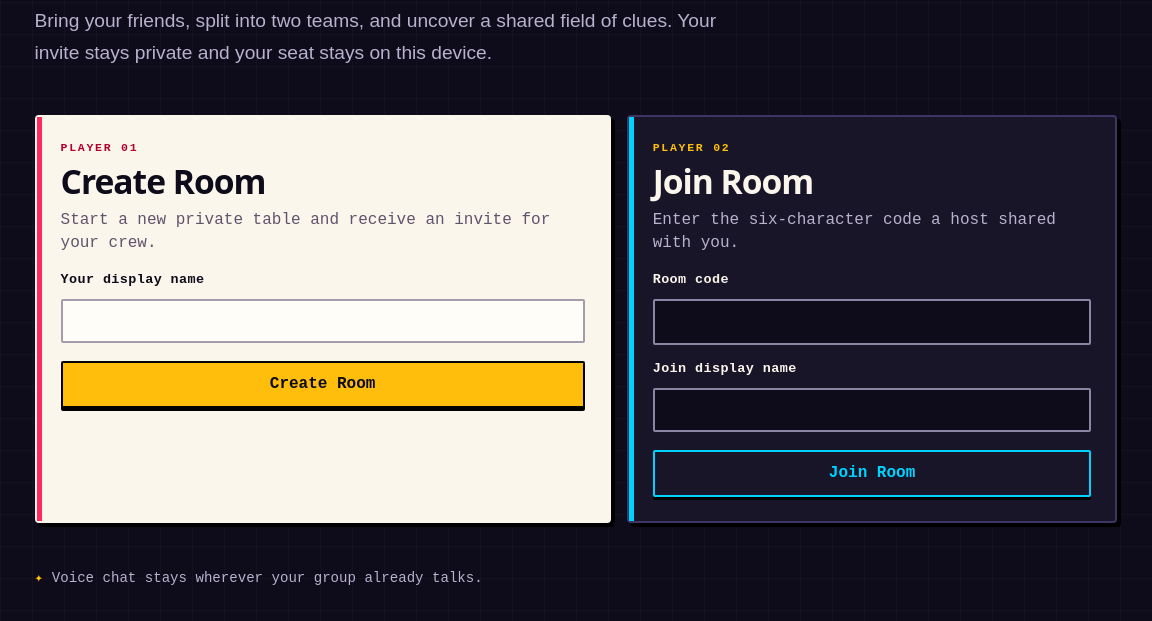
Test: HomePage › keeps an API error visible and focuses the public summary
This screenshot has width=1152, height=621.
(page scrolled)
In the field labelled "Room code": (872, 322) [653,299,1092,345], type "ABC123"
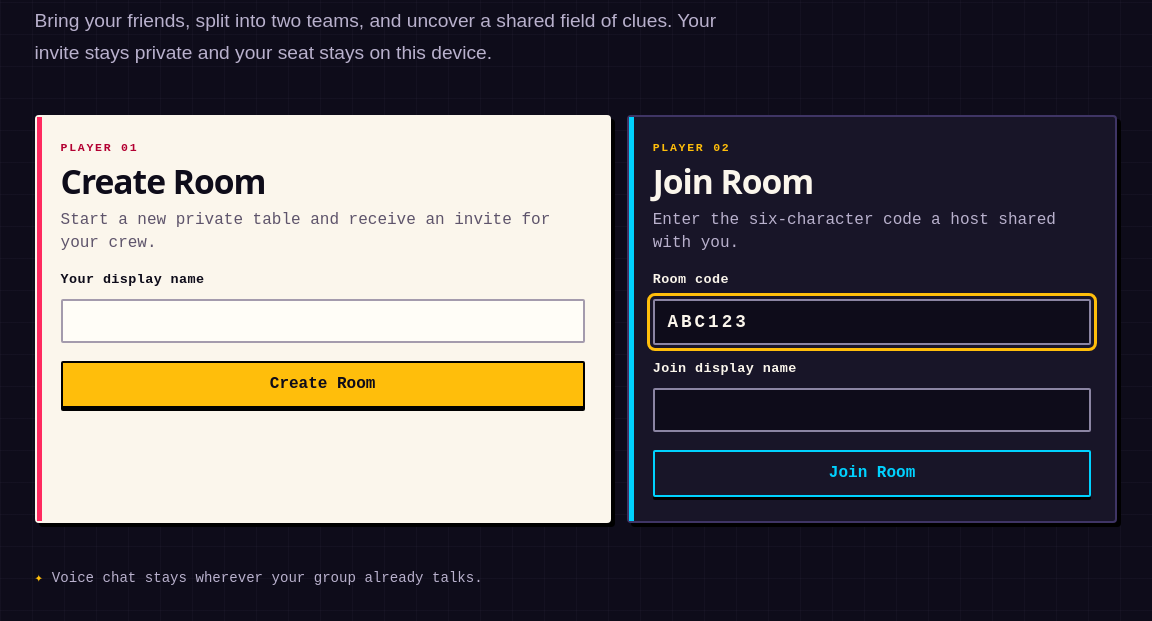
In the field labelled "Join display name": (872, 410) [653,388,1092,432], type "Guest"
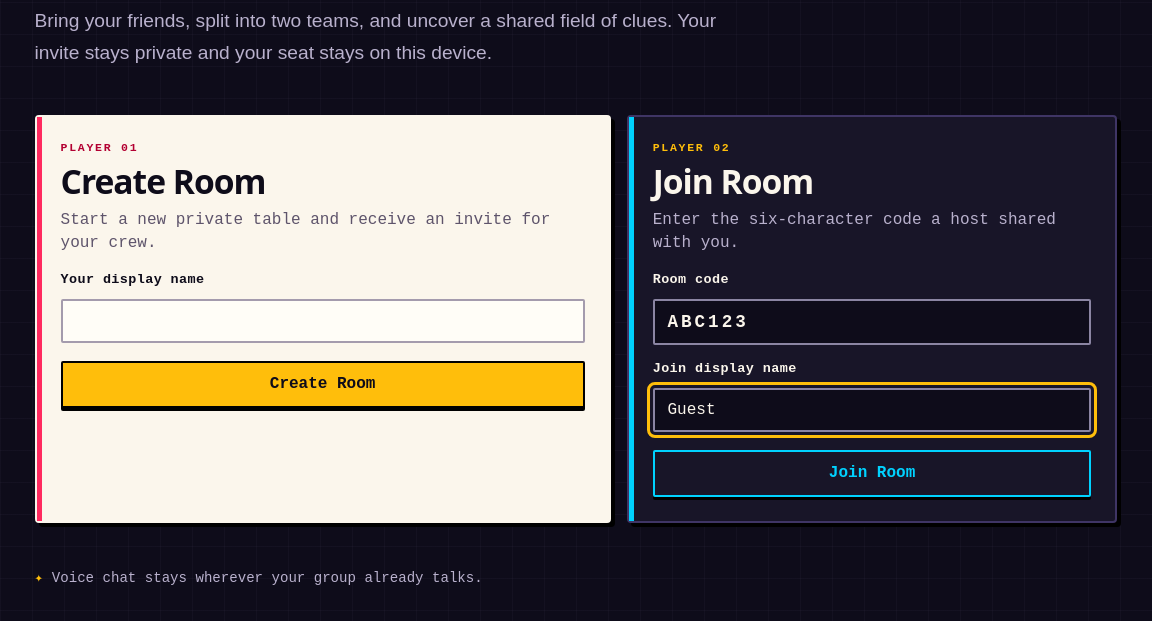
Click the button "Join Room": (872, 474) [653,450,1092,497]
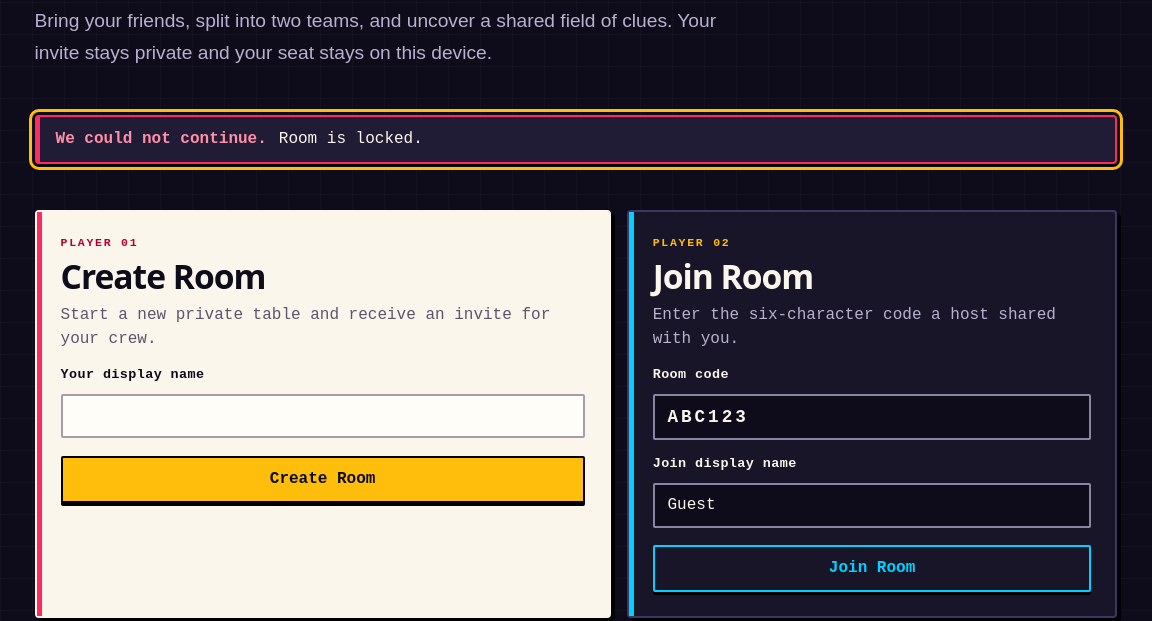
Now the message shows "Room is locked", box [279,130,423,148]
